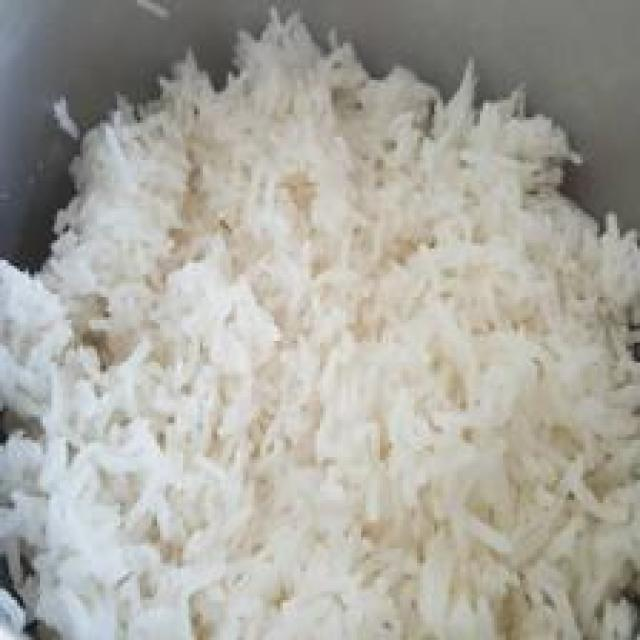Wet Waste: (20, 22, 626, 630)
